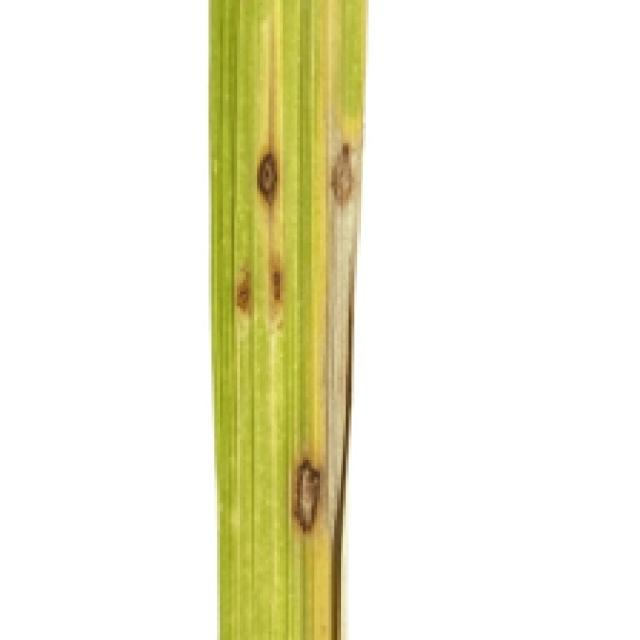Rice___Rice_Blast: (208, 0, 369, 637)
